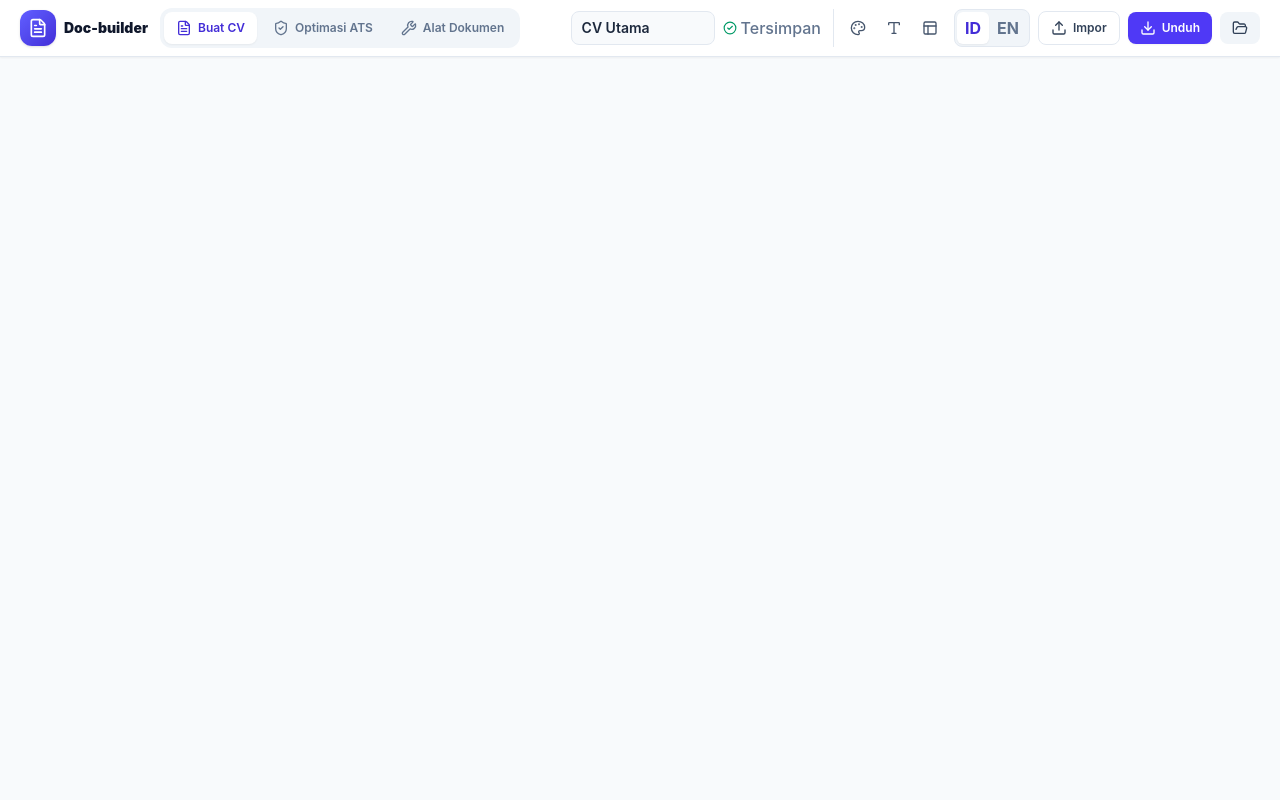
Scenario: Navbar draft management › menampilkan pesan kosong saat pencarian tidak menemukan draft
This screenshot has width=1280, height=800.
Click the button with test id "btn-open-drafts" at point(1240, 28), box [1220,12,1260,44]
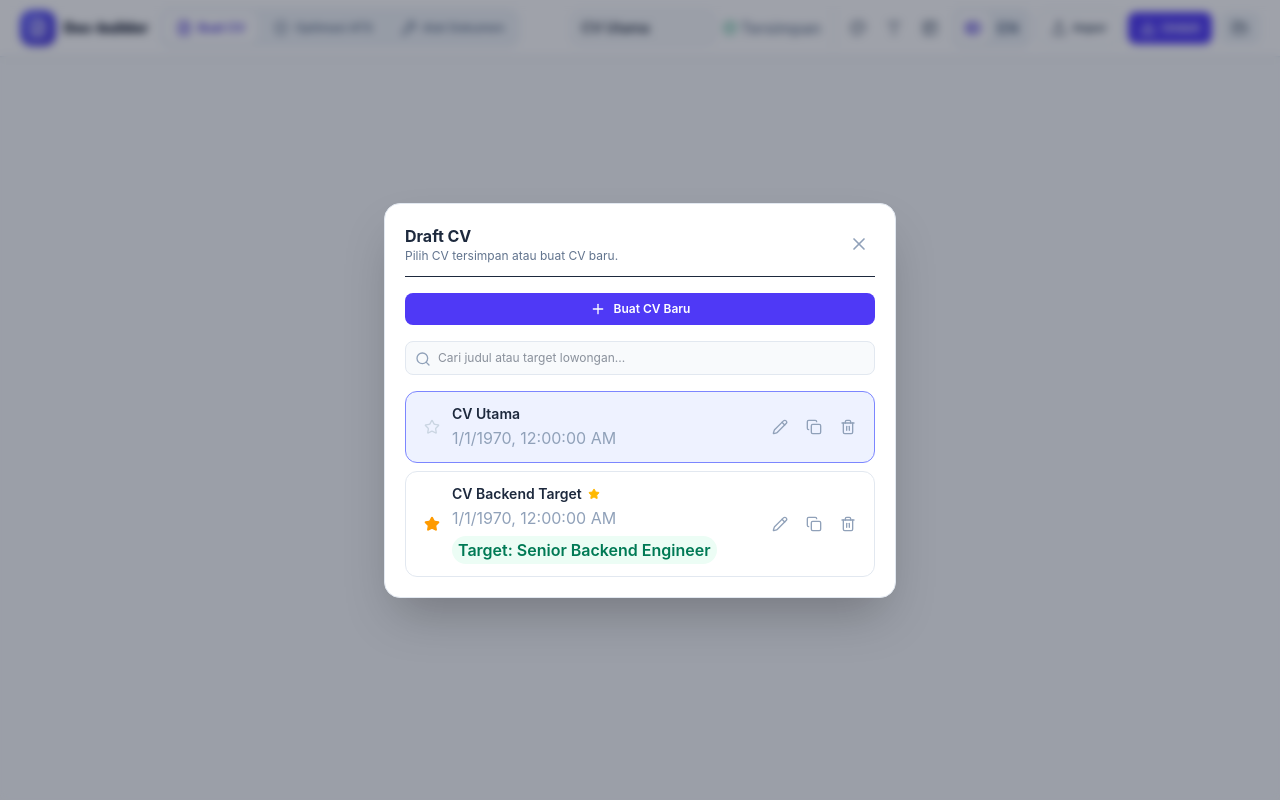
Type "tidak-ada" into the search field with test id "input-search-drafts" at point(640, 358), box [405,340,875,374]
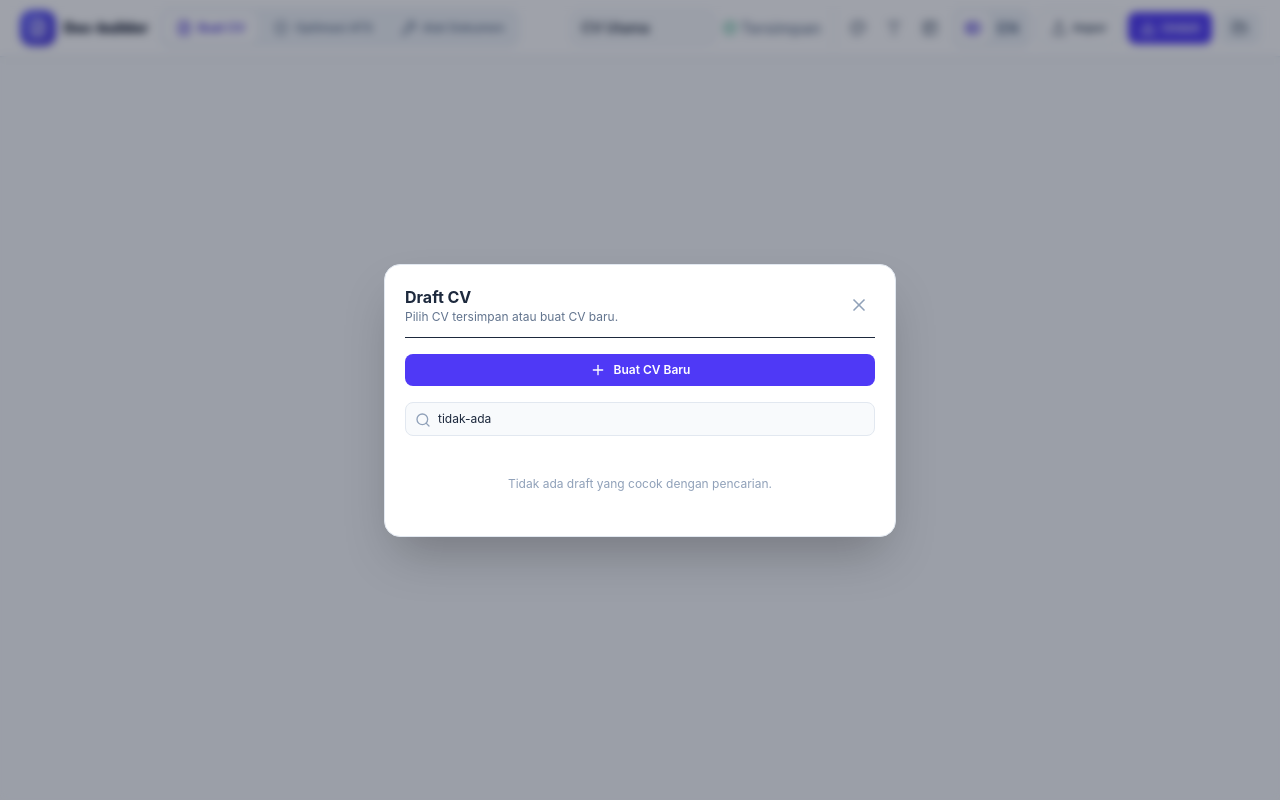
Check: the text "Tidak ada draft yang cocok dengan pencarian." is shown, box [508,476,772,490]
